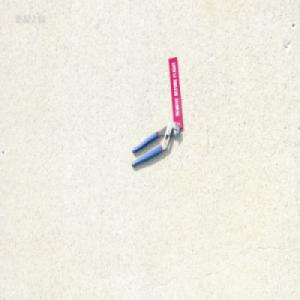Label: (166, 54, 182, 129)
Pliers: (130, 119, 179, 168)
